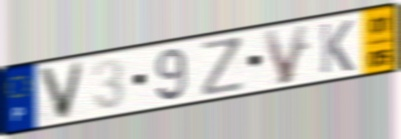3: (91, 56, 128, 113)
9: (154, 47, 188, 103)
K: (318, 18, 355, 76)
V: (260, 21, 311, 87), (36, 59, 88, 123)
Z: (199, 34, 247, 99)
